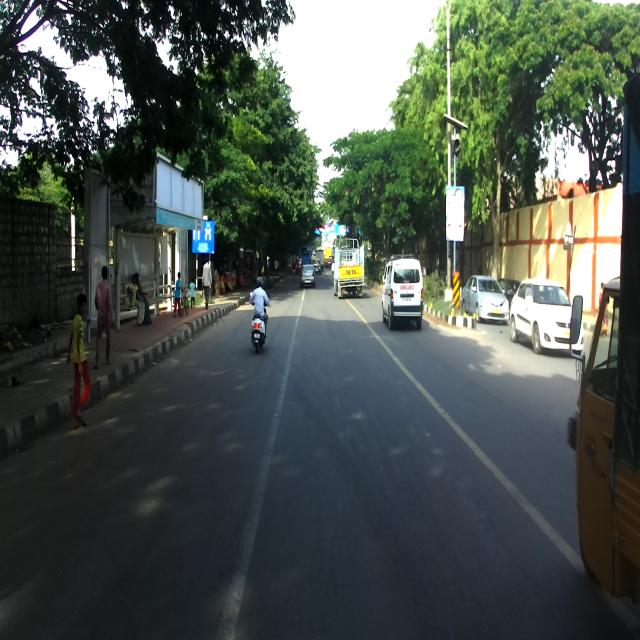car ahead at: (382, 254, 428, 334)
person ahead at: (65, 287, 96, 434), (97, 261, 117, 368)
truck ahead at: (332, 232, 369, 306)
